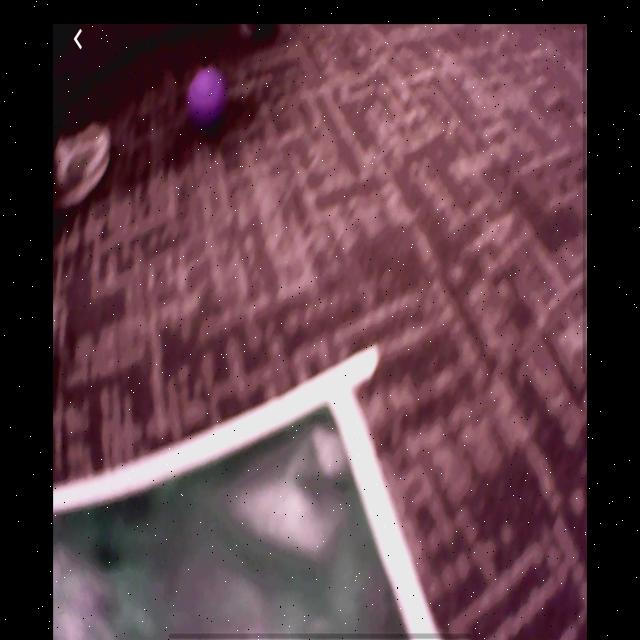ball: (190, 67, 224, 122)
